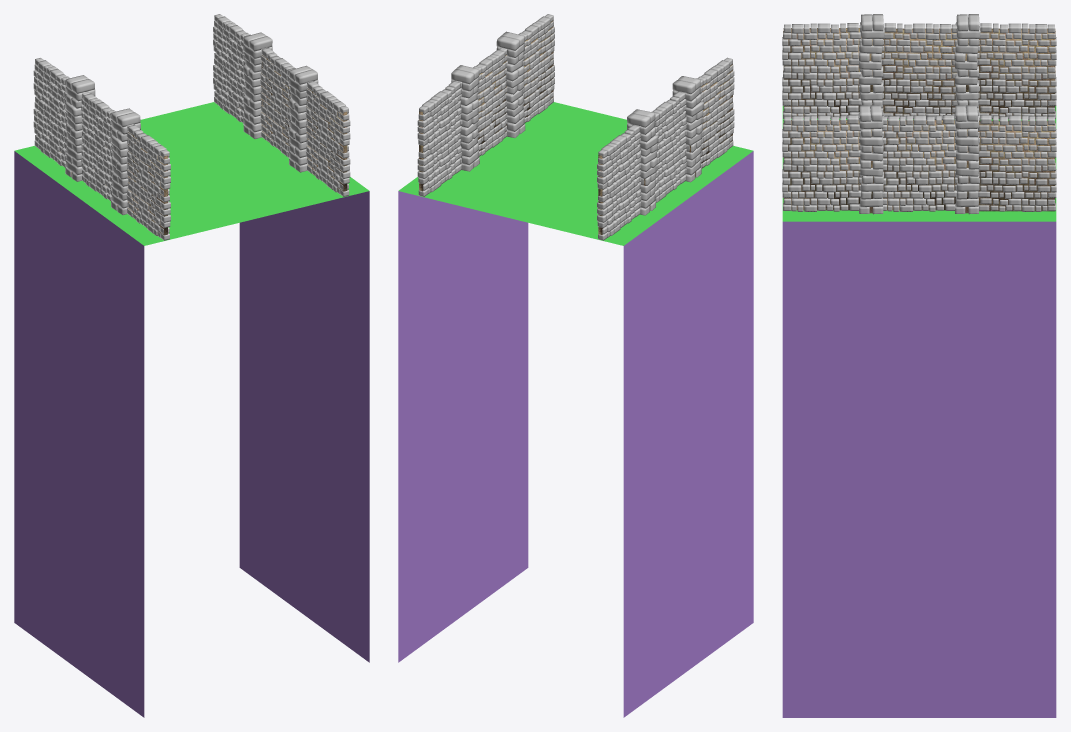
File: HallWayStraight_1.fbx
The picture shows the model from 3 angles, left to right: view 1: azimuth 30°, elevation 25°; view 2: azimuth 150°, elevation 25°; view 3: azimuth 270°, elevation 25°; orthographic projection. The views are drawn at different scales.
Visible parts, largest first — view 1: HallWay_Straight_1; view 2: HallWay_Straight_1; view 3: HallWay_Straight_1.
Boxes of the visible parts, x1,y1,x2,y2 form: HallWay_Straight_1: (14, 14, 369, 717); HallWay_Straight_1: (398, 14, 753, 717); HallWay_Straight_1: (782, 14, 1056, 717).
Bounding box in the file's own units: 400 × 961 × 401.
